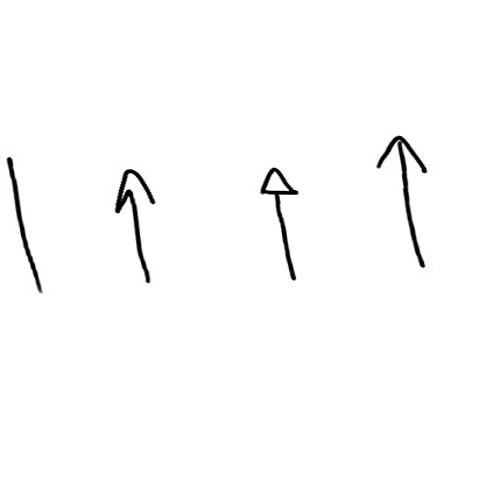arrow: (376, 134, 430, 271), (113, 169, 157, 284), (262, 165, 300, 284)
arrownohead: (5, 157, 48, 293)
